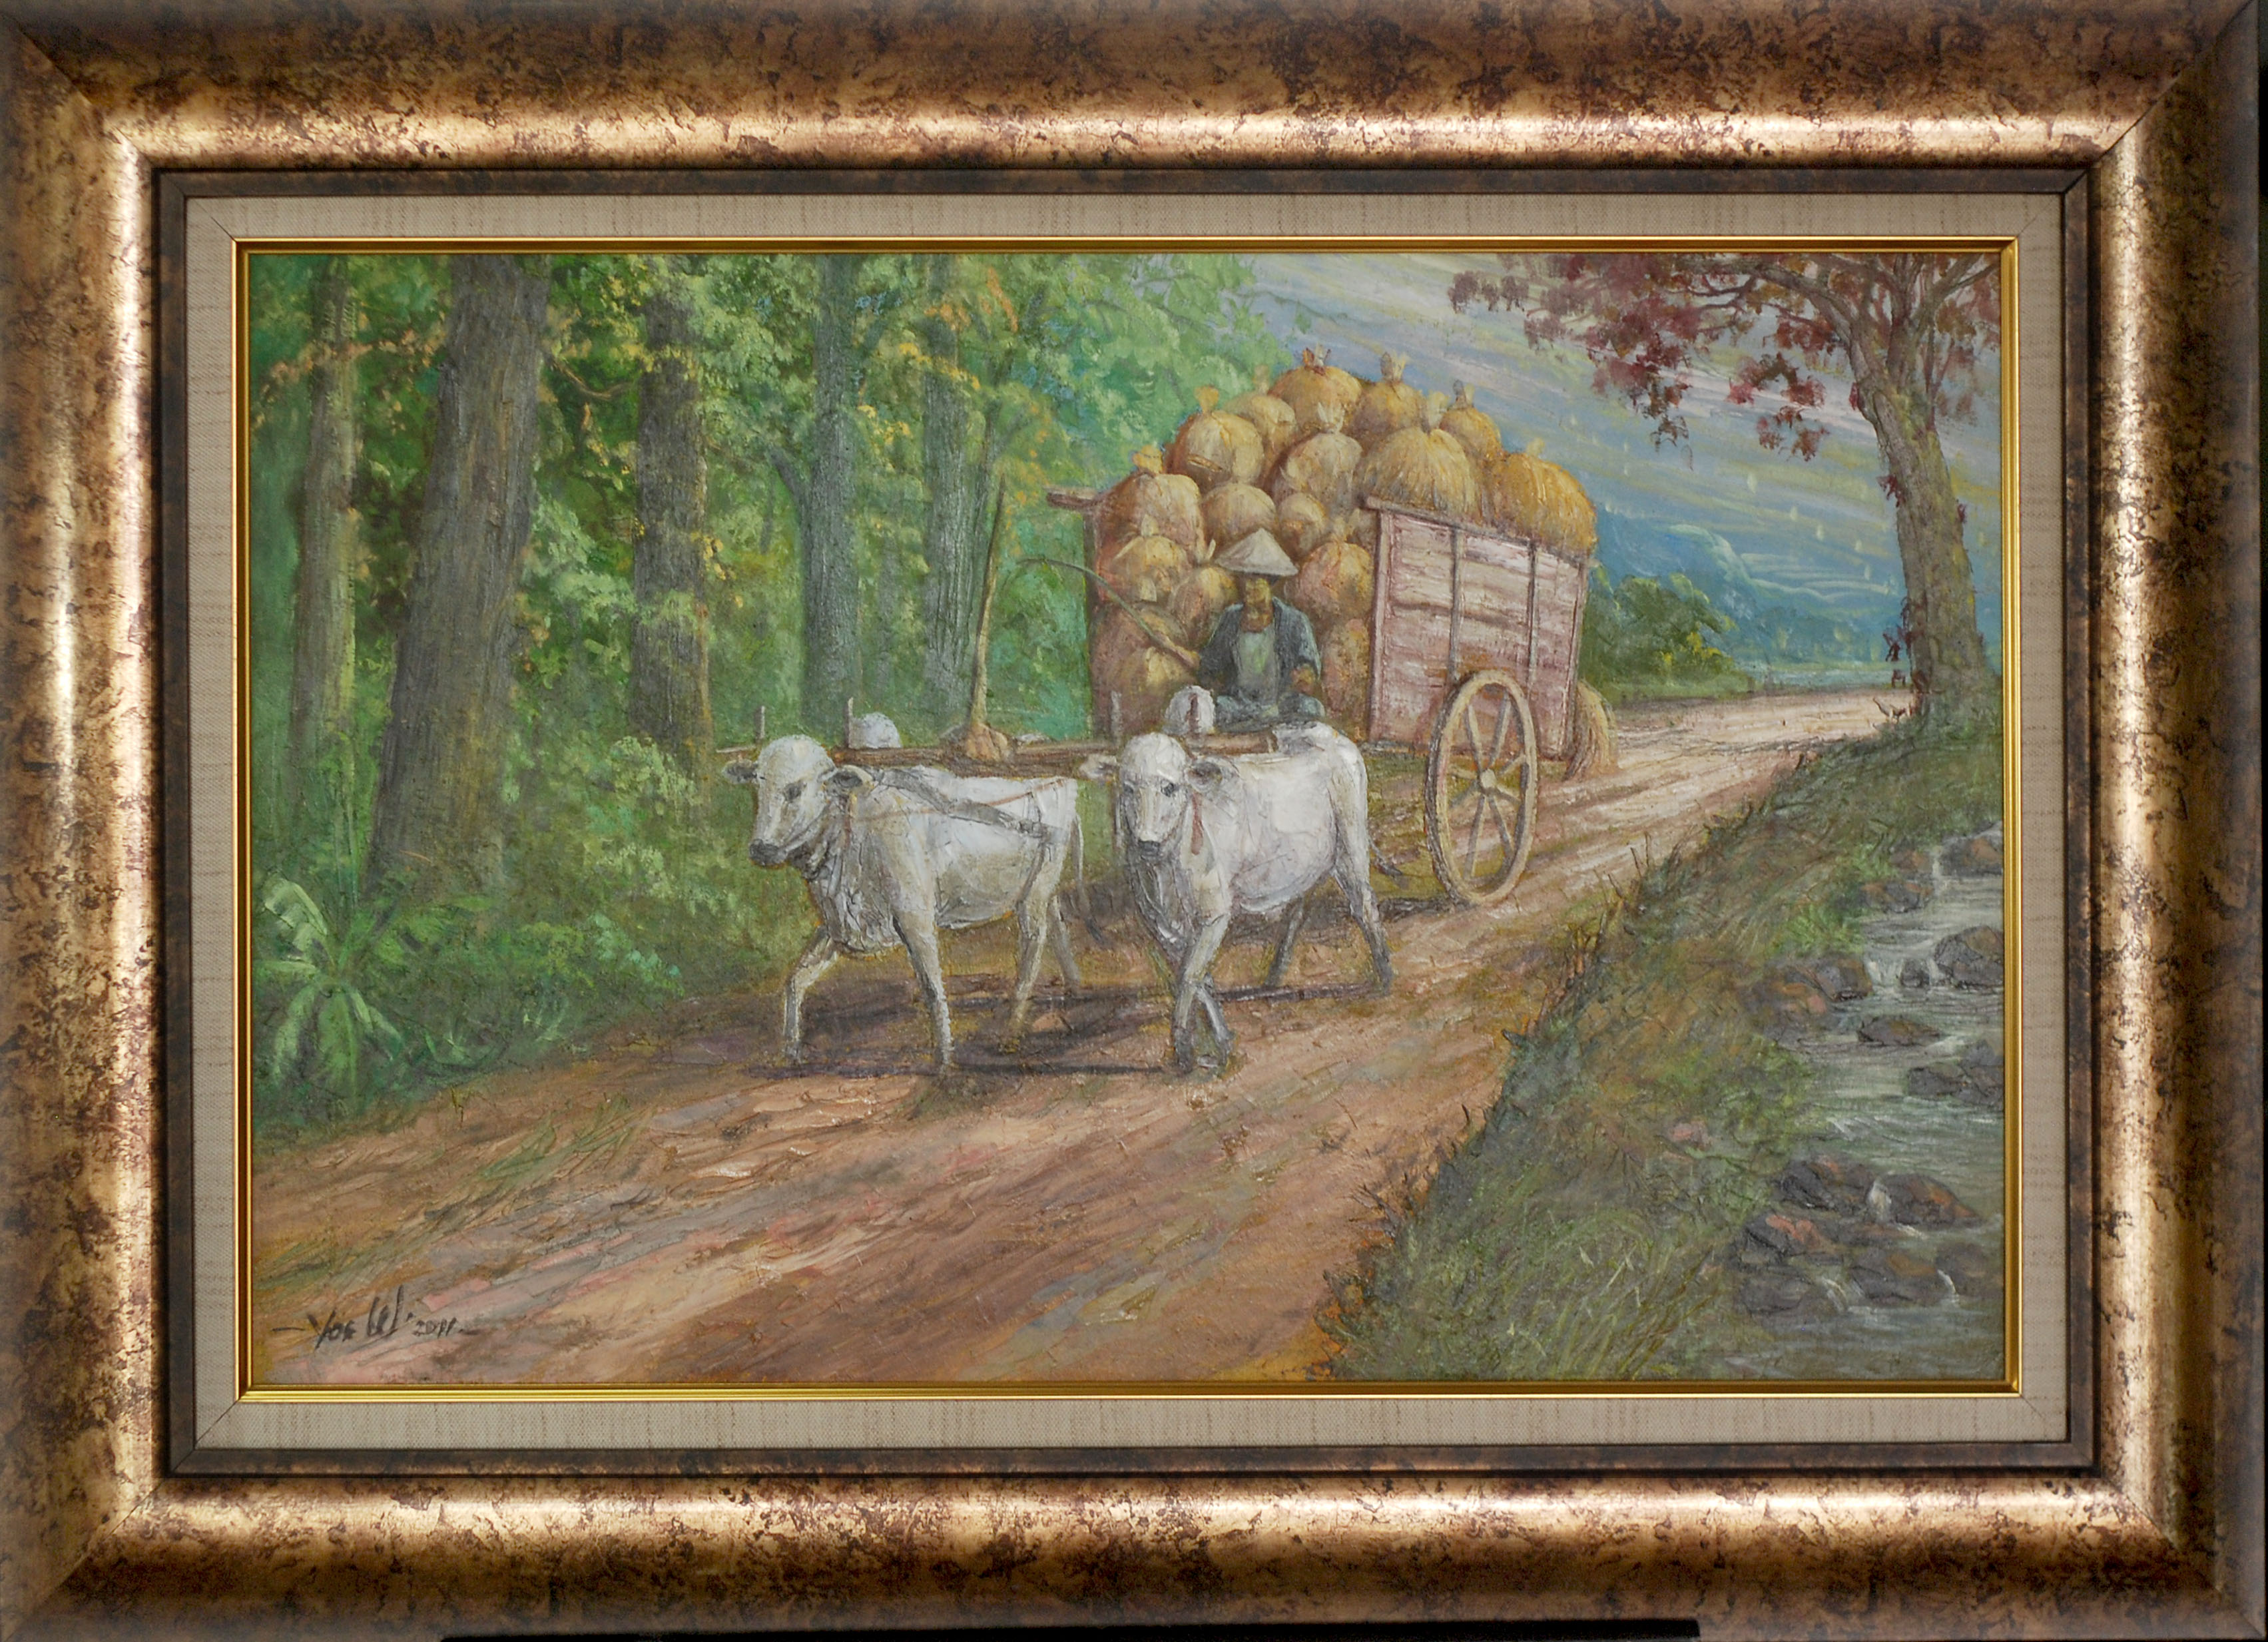lukisan: (16, 39, 2217, 1589)
